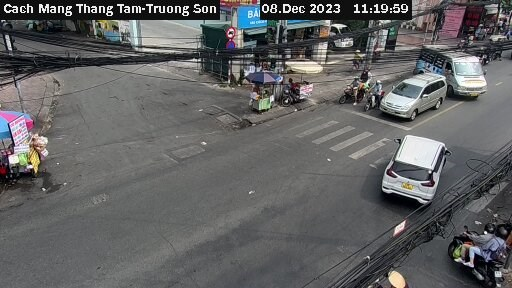car: (380, 127, 449, 210), (415, 42, 492, 105), (381, 71, 444, 126)
motorbike: (450, 217, 509, 284), (363, 81, 391, 118), (341, 77, 364, 105)
